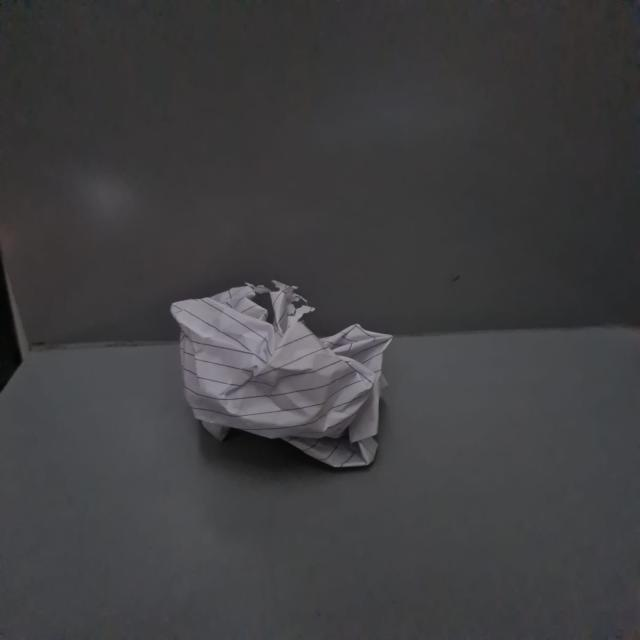Paper: (174, 280, 391, 465)
